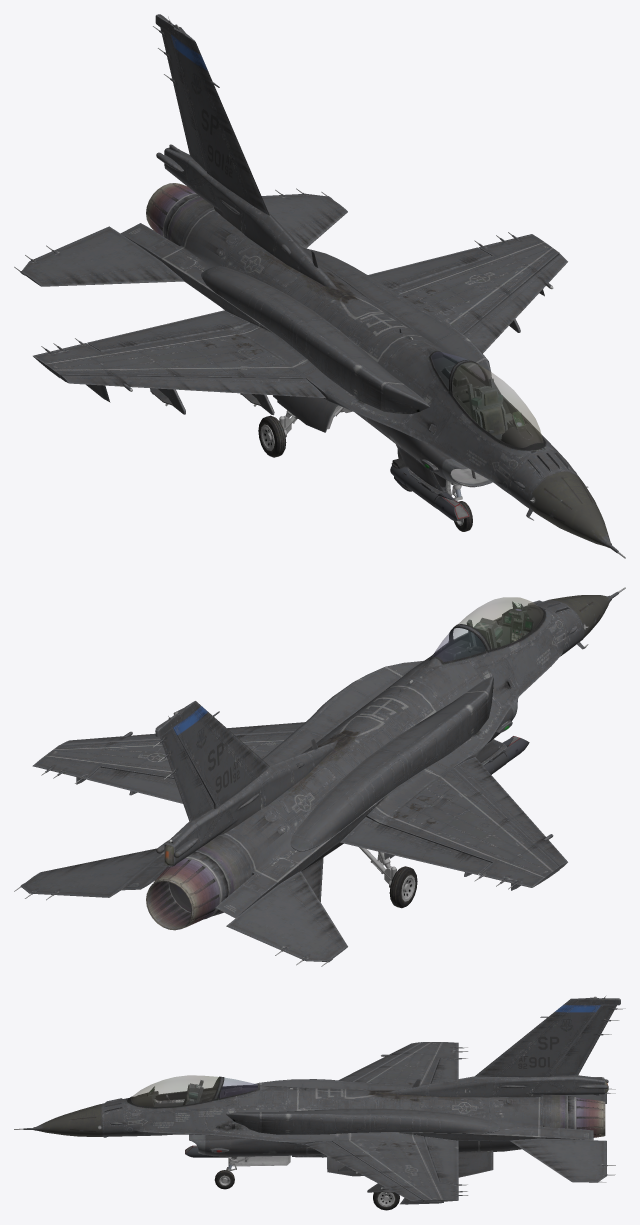
The picture shows the model from 3 angles, top to bottom: view 1: azimuth 30°, elevation 25°; view 2: azimuth 150°, elevation 25°; view 3: azimuth 270°, elevation 25°; orthographic projection. The views are drawn at different scales.
Parts seen in each view (by area): view 1: Chassis_1_5, open_2_8, SniperXR_0_3; view 2: Chassis_1_5, open_2_8, SniperXR_0_3; view 3: Chassis_1_5, open_2_8.
Boxes of the visible parts, box(x1,y1,x2,y2) form: Chassis_1_5: box(14, 14, 625, 558); open_2_8: box(258, 395, 472, 531); SniperXR_0_3: box(390, 458, 469, 521); Chassis_1_5: box(14, 587, 625, 966); open_2_8: box(359, 847, 417, 908); SniperXR_0_3: box(483, 736, 529, 774); Chassis_1_5: box(14, 995, 625, 1204); open_2_8: box(214, 1155, 399, 1210).
Size of the model in its own units: 0.0923 by 0.0527 by 0.151.
3 materials, 3 textured.
